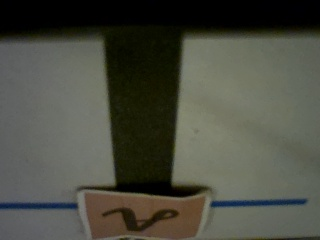A: (84, 194, 199, 240)
